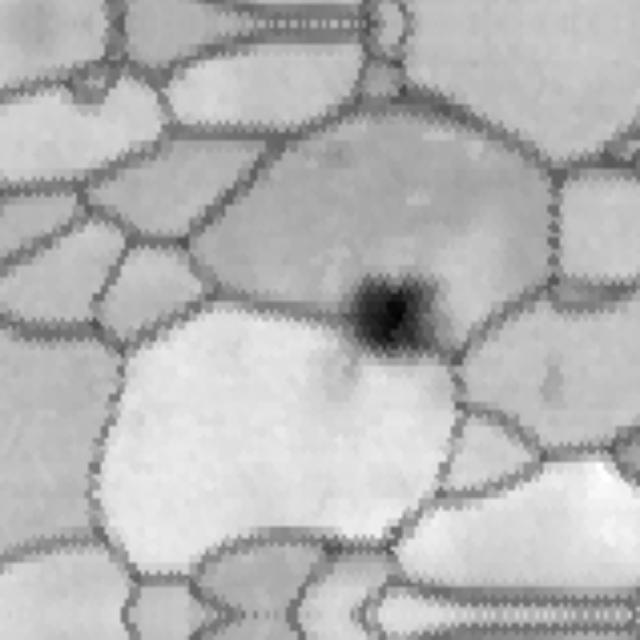good_void: (325, 256, 454, 363)
